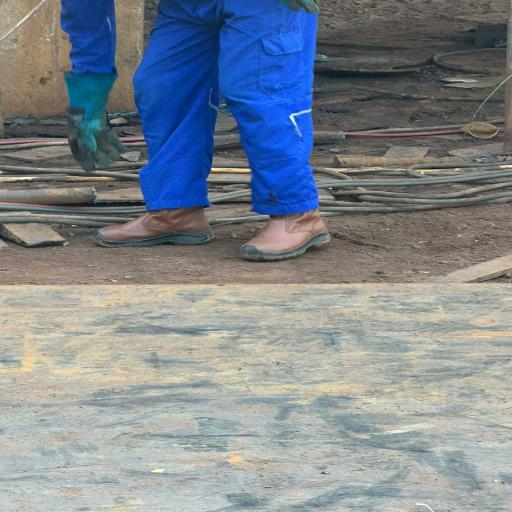safety_shoe: (226, 208, 344, 259), (87, 207, 219, 247)
